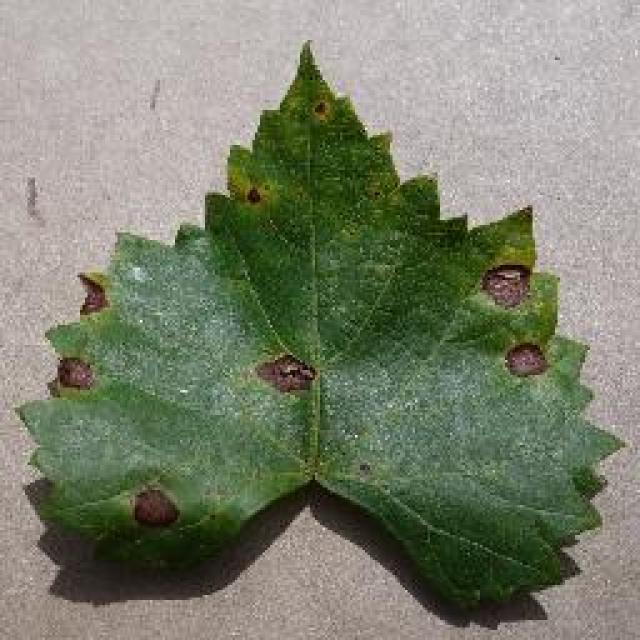Grape___Black_rot: (4, 35, 632, 621)
